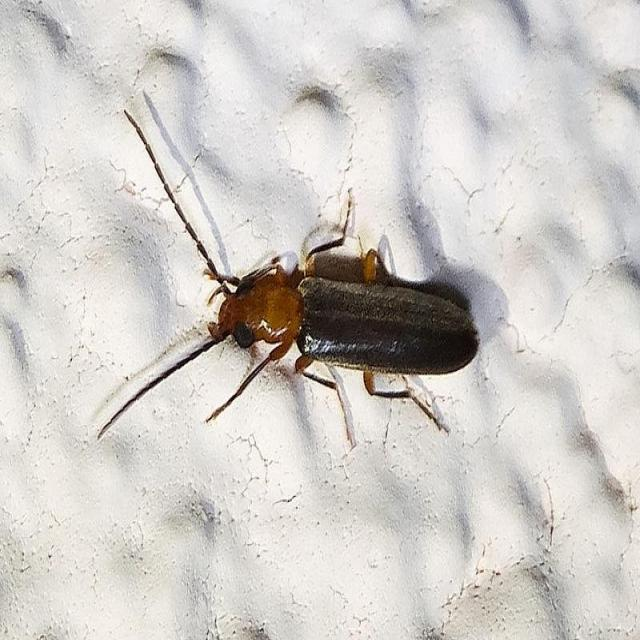BlisterBeetle-Adult-: (106, 101, 479, 431)
